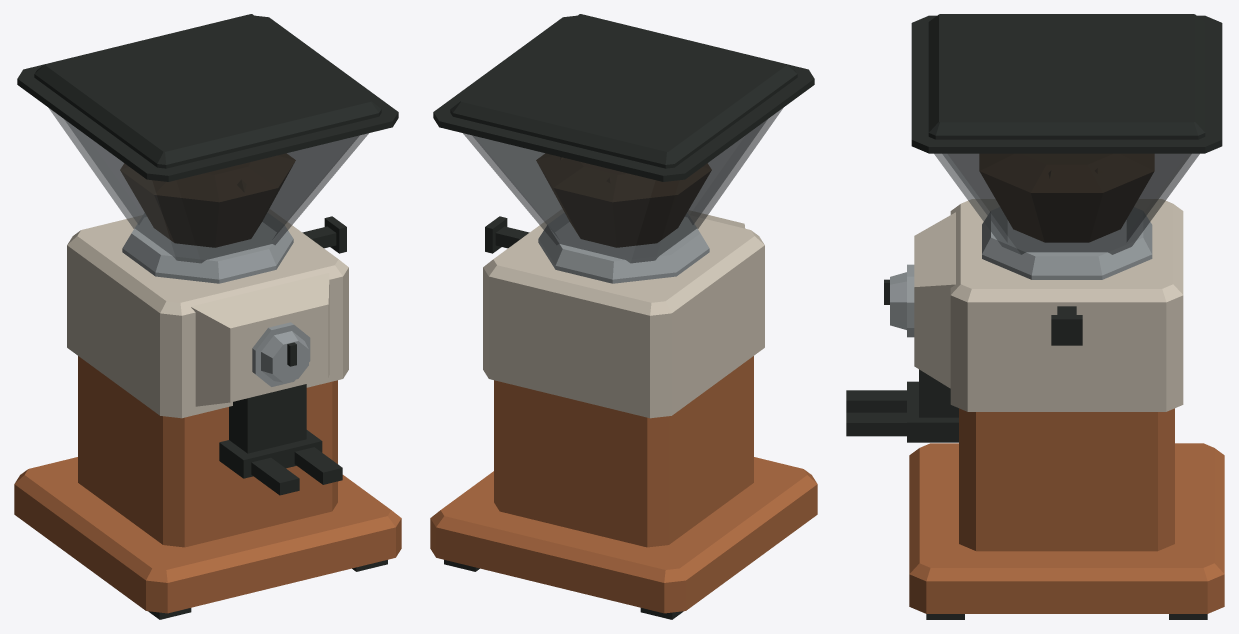
Rendered from coffee-grinder-6f962a.glb.
The picture shows the model from 3 angles, left to right: view 1: azimuth 30°, elevation 25°; view 2: azimuth 150°, elevation 25°; view 3: azimuth 270°, elevation 25°; orthographic projection. The views are drawn at different scales.
Parts seen in each view (by area): view 1: coffee-grinder, lid, dial, hopper-slide; view 2: coffee-grinder, lid, hopper-slide; view 3: coffee-grinder, lid, hopper-slide, dial.
Boxes of the visible parts, <box> form: coffee-grinder: <box>14,108,401,619</box>; lid: <box>17,14,398,181</box>; dial: <box>261,331,308,382</box>; hopper-slide: <box>302,216,346,253</box>; coffee-grinder: <box>430,108,817,619</box>; lid: <box>433,14,814,181</box>; hopper-slide: <box>485,216,529,253</box>; coffee-grinder: <box>846,153,1224,619</box>; lid: <box>911,14,1222,153</box>; hopper-slide: <box>1051,306,1082,345</box>; dial: <box>884,272,906,329</box>.
Bounding box in the file's own units: 0.264 × 0.448 × 0.312.
